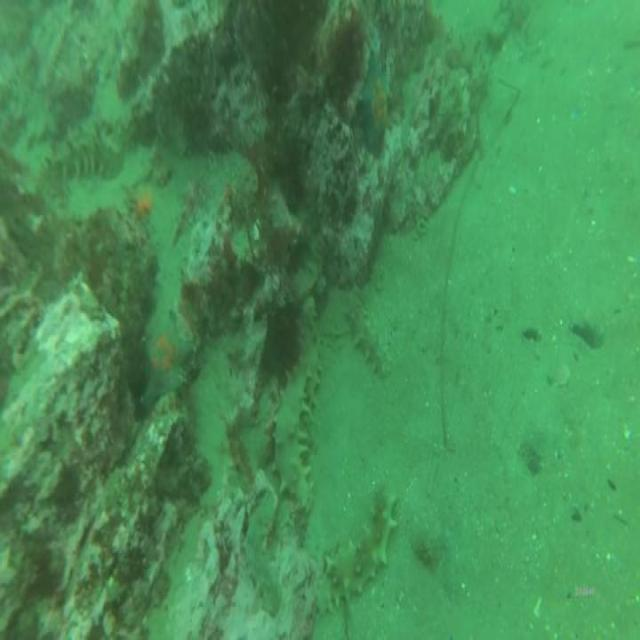echinus: (261, 292, 307, 393)
holothurian: (314, 485, 396, 616), (270, 335, 324, 512), (238, 484, 286, 616), (41, 130, 123, 190), (343, 283, 391, 379)
starfish: (140, 308, 192, 408), (356, 51, 391, 158)
